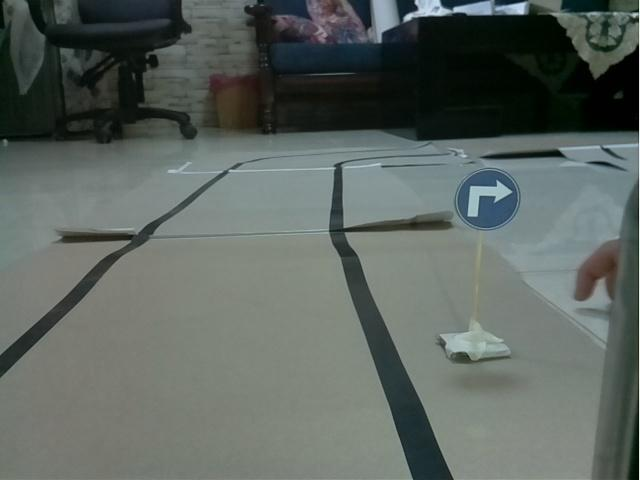turn: (451, 167, 522, 229)
